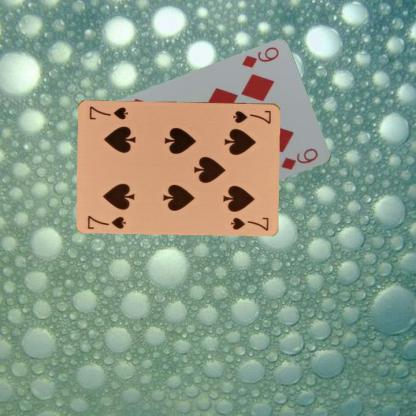7s: (230, 107, 272, 125), (85, 213, 128, 230)
9d: (239, 44, 280, 70)
